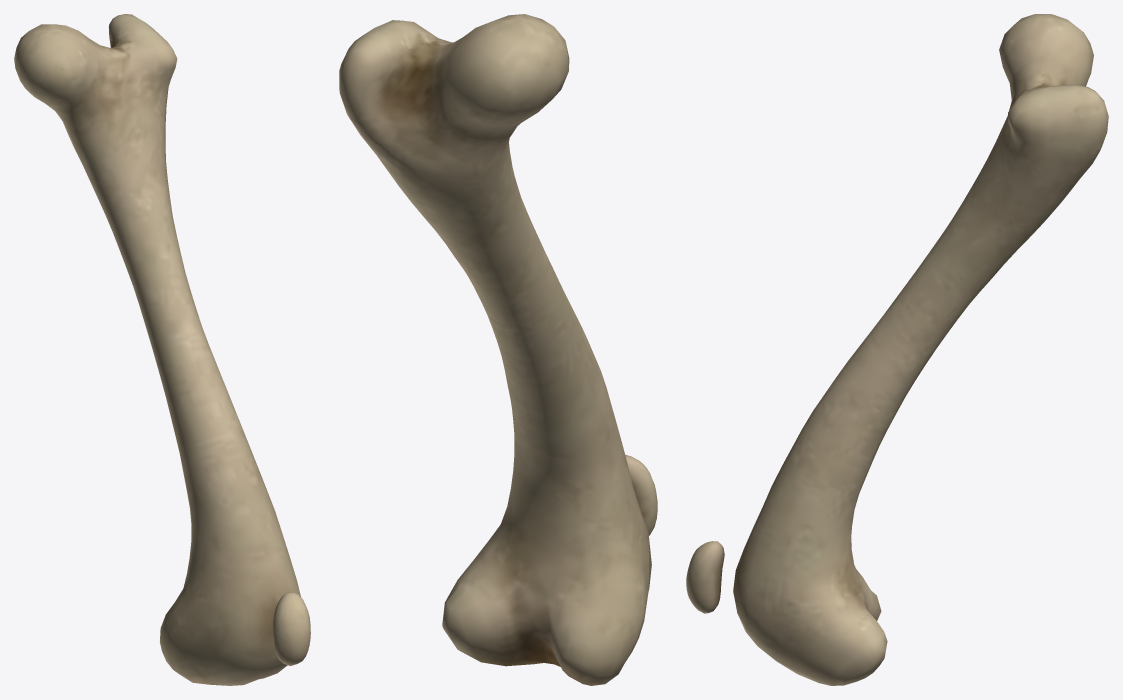
Rendered from Femur.glb.
3 renders of one model, left to right at view 1: azimuth 30°, elevation 25°; view 2: azimuth 150°, elevation 25°; view 3: azimuth 270°, elevation 25°, orthographic. The views are drawn at different scales.
Parts seen in each view (by area): view 1: polySurface11; view 2: polySurface11; view 3: polySurface11.
Part boxes in pixels (x1,y1,x2,y2): polySurface11: (14,14,310,685); polySurface11: (339,14,657,685); polySurface11: (686,14,1108,685).
Size of the model in its own units: 37.15 by 120 by 74.92.
1 material, 1 textured.
